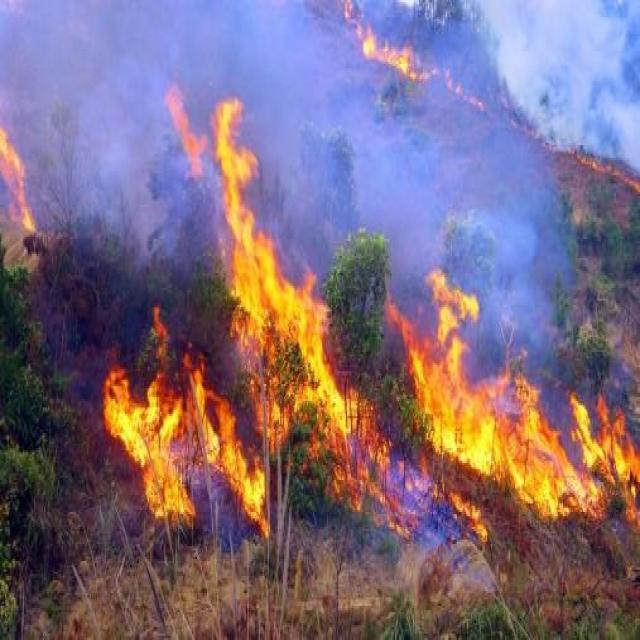Fire: (101, 2, 640, 544), (1, 126, 38, 232)
Smoke: (1, 2, 640, 555)
